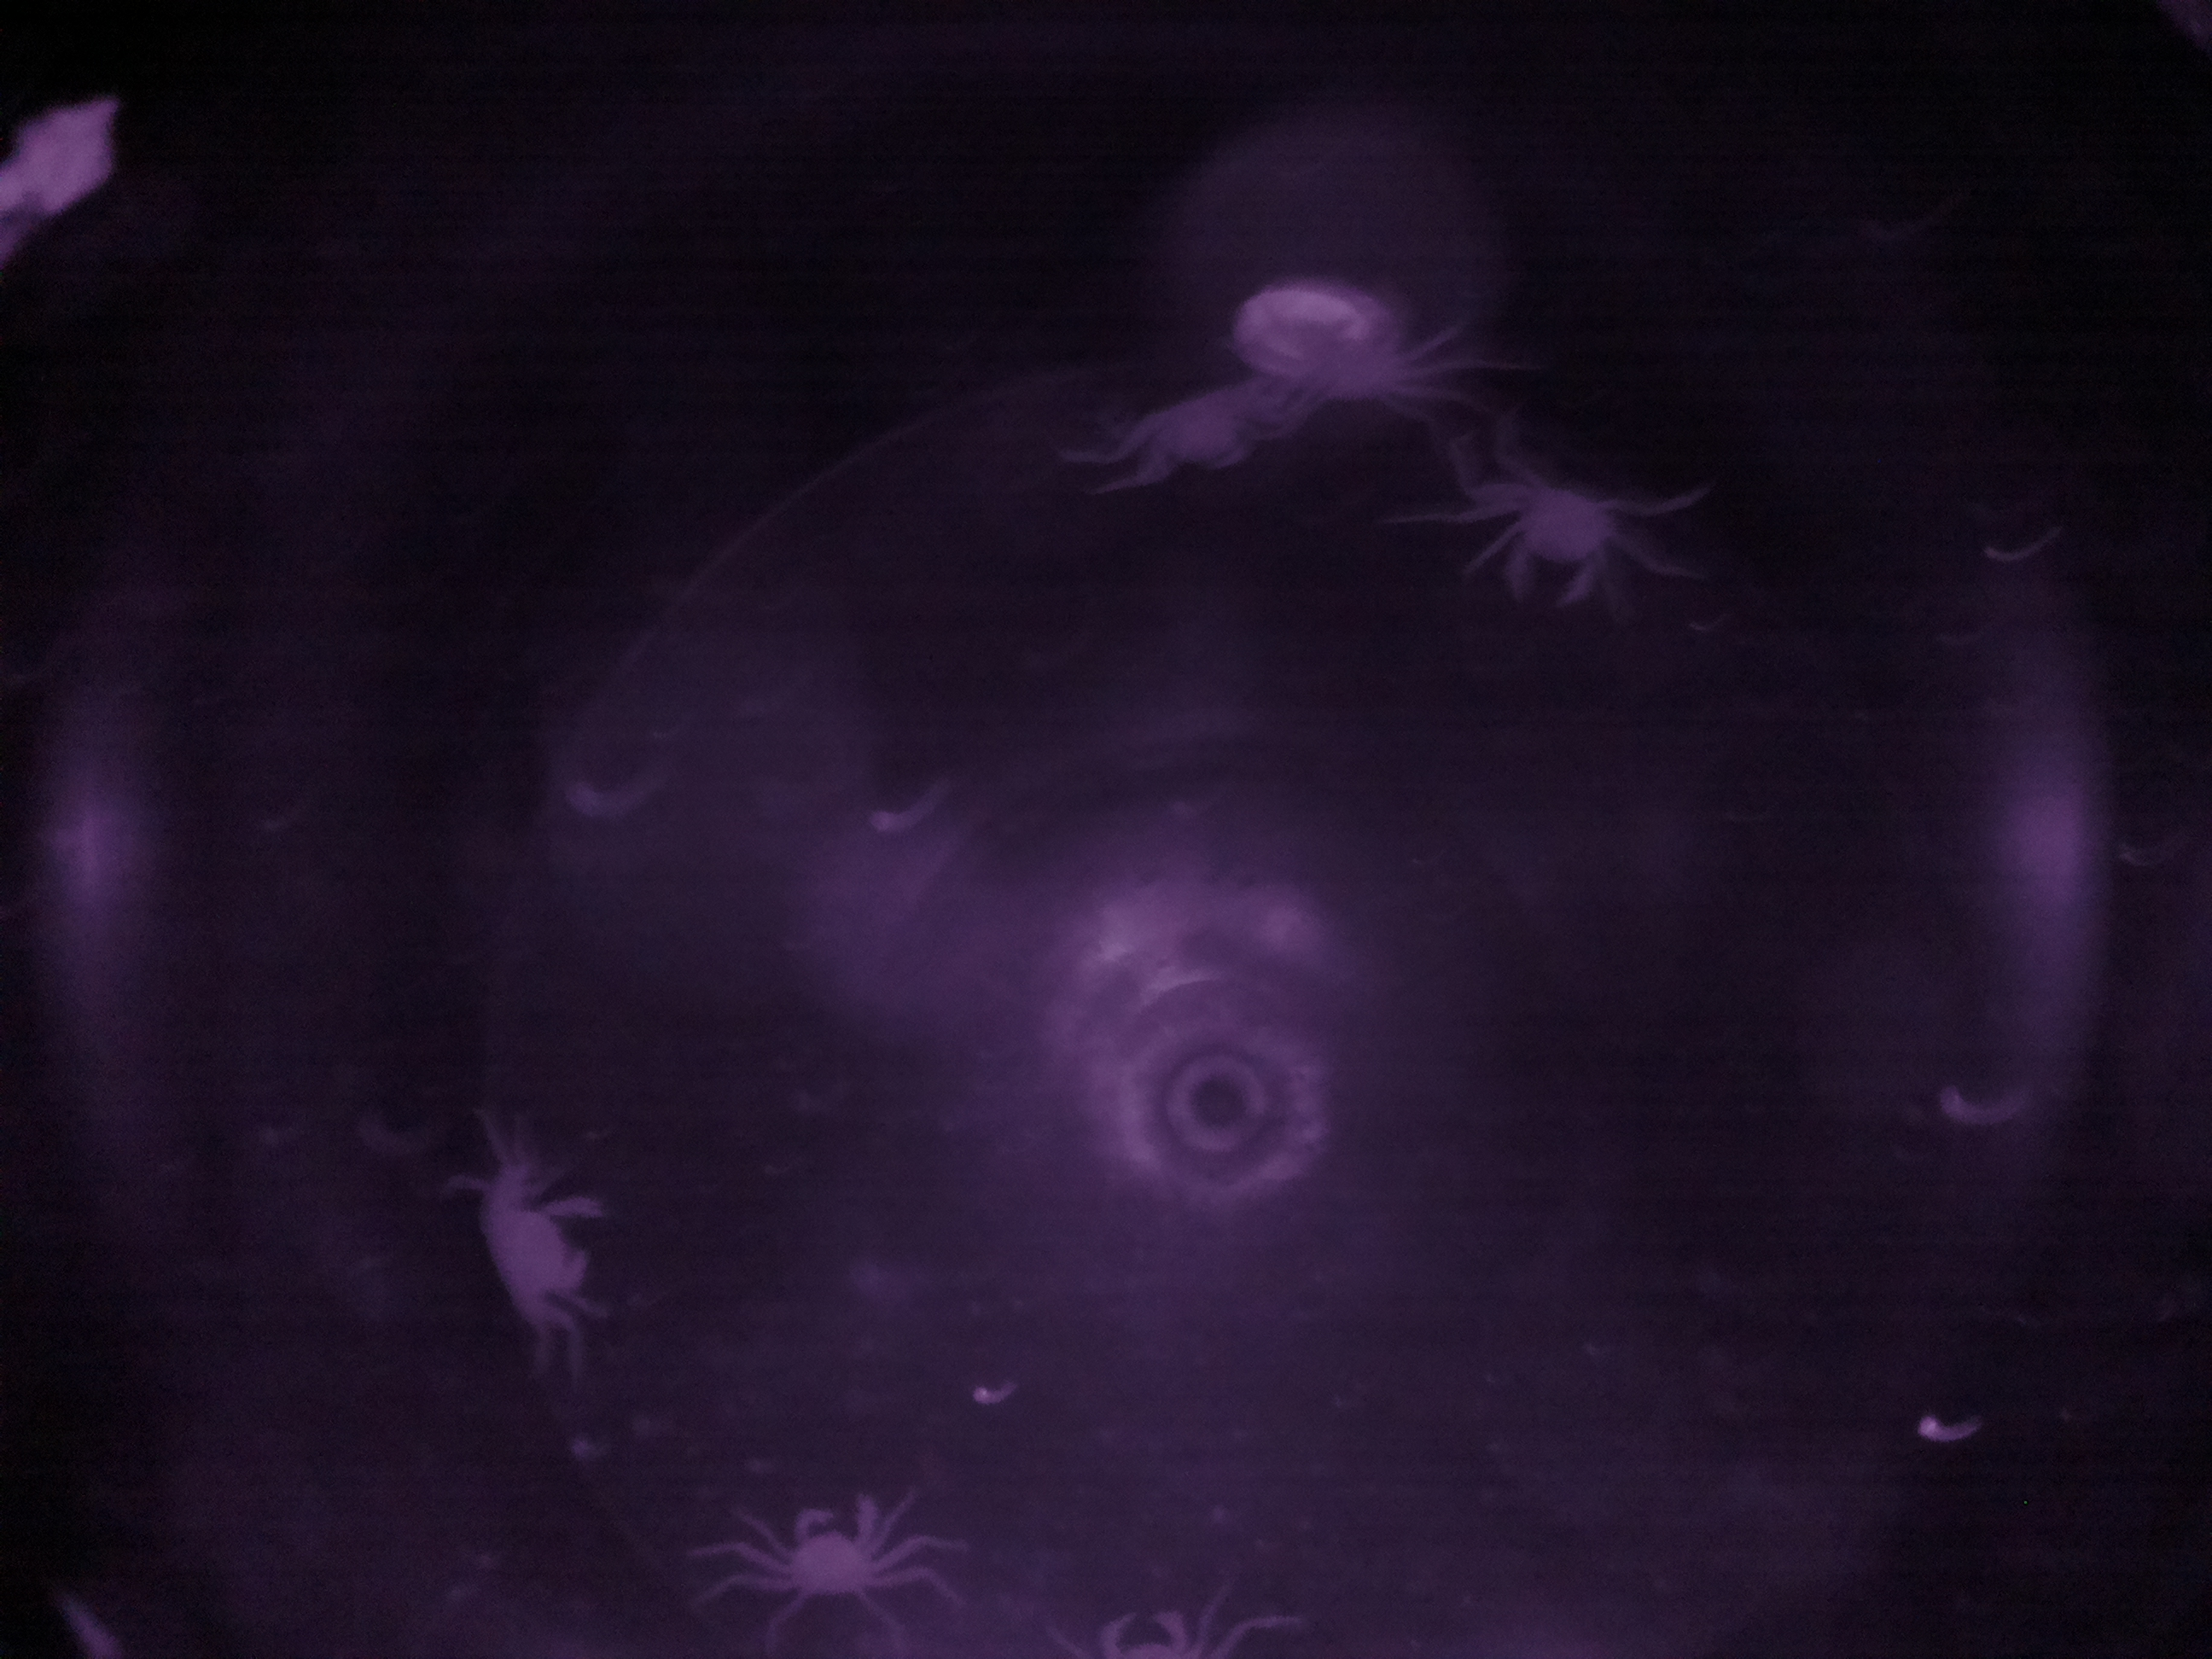Crab: (1447, 443, 1649, 627), (737, 1480, 914, 1626)
